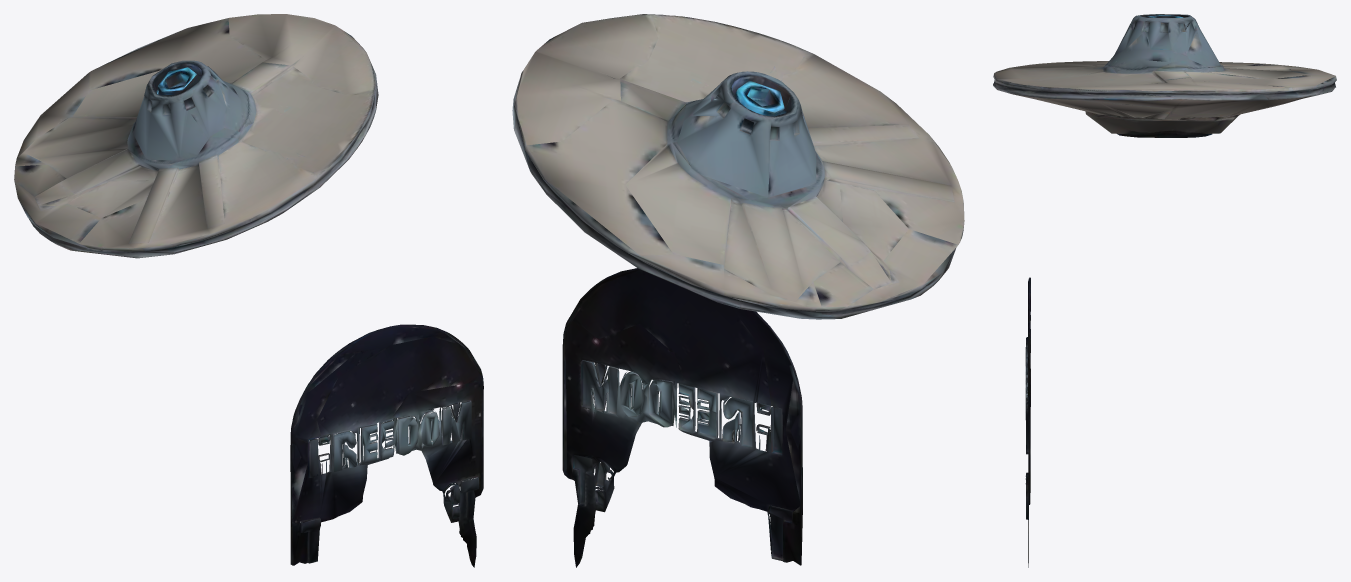
3 renders of one model, left to right at view 1: azimuth 30°, elevation 25°; view 2: azimuth 150°, elevation 25°; view 3: azimuth 270°, elevation 25°, orthographic. The views are drawn at different scales.
Parts seen in each view (by area): view 1: node_0; view 2: node_0; view 3: node_0.
Part boxes in pixels (x1=…): node_0: x1=14, y1=14, x2=483, y2=567; node_0: x1=512, y1=14, x2=964, y2=567; node_0: x1=993, y1=14, x2=1336, y2=567.
Bounding box in the file's own units: 0.6885 × 0.8886 × 0.6015.
Materials: 1 (1 with a texture image).
